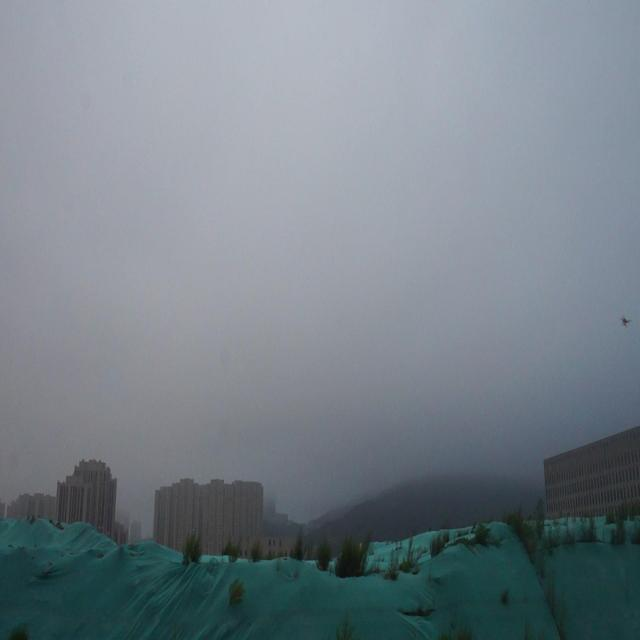drone: (620, 313, 632, 333)
